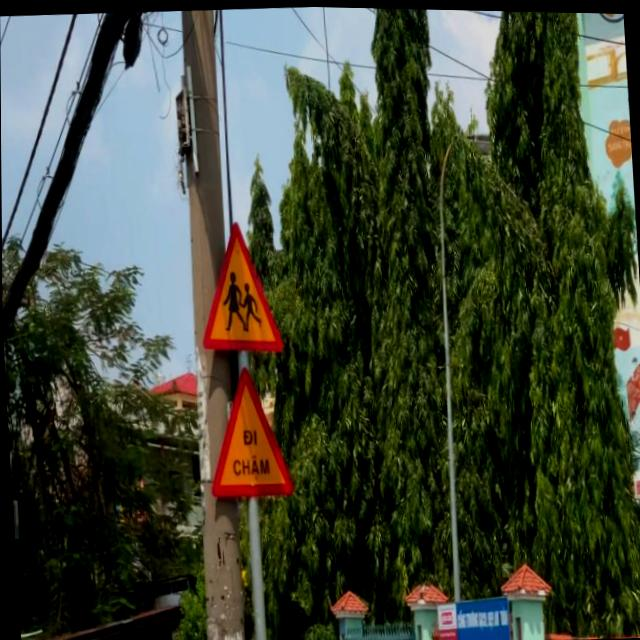Di cham: (203, 362, 295, 498)
Tre em: (195, 217, 284, 356)
